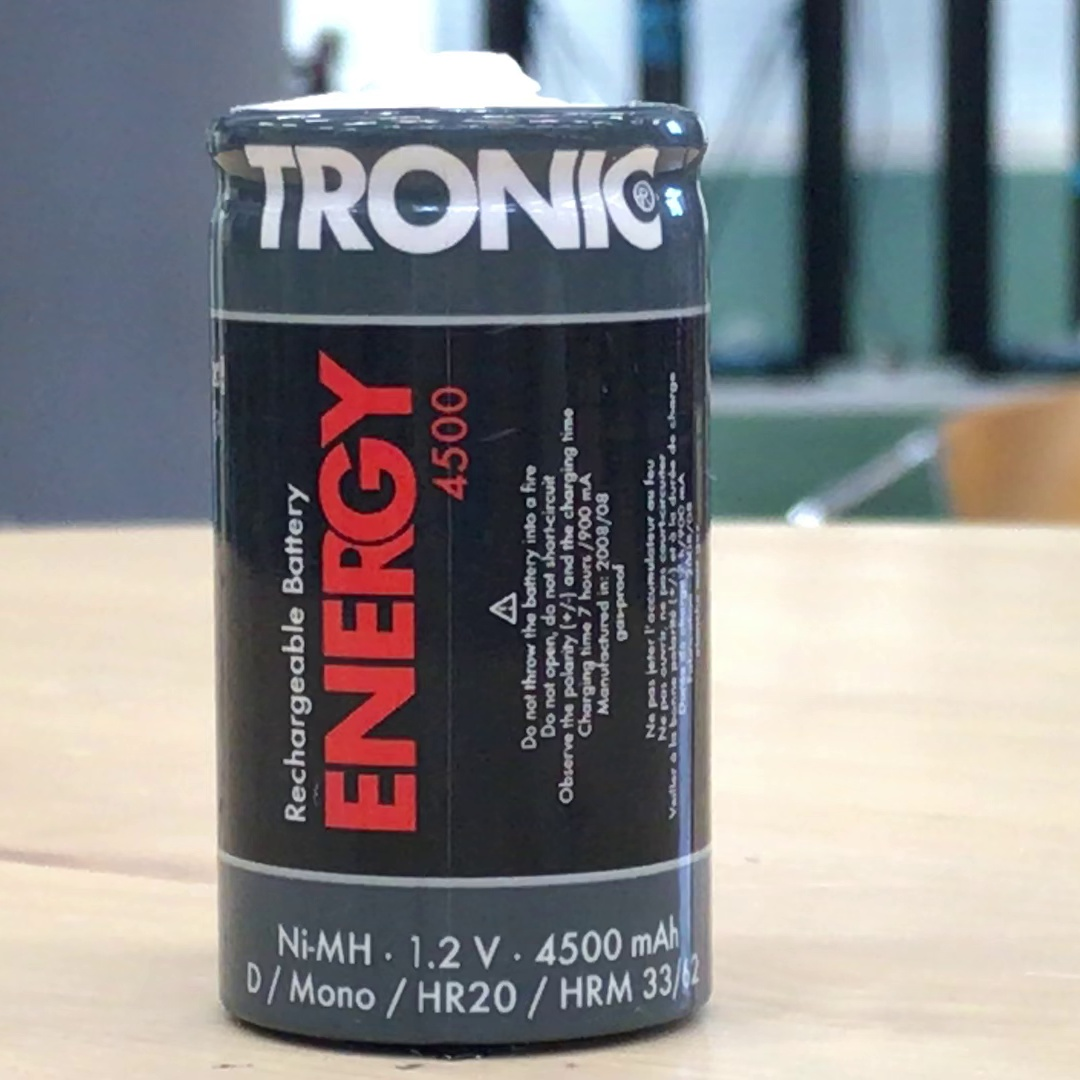keyword: (402, 927, 510, 977), (269, 923, 376, 967)
